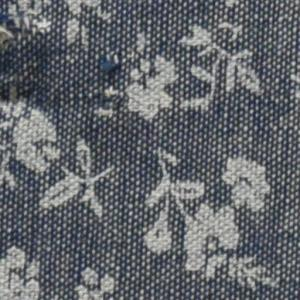Damage: (1, 1, 54, 120), (95, 49, 128, 85)
